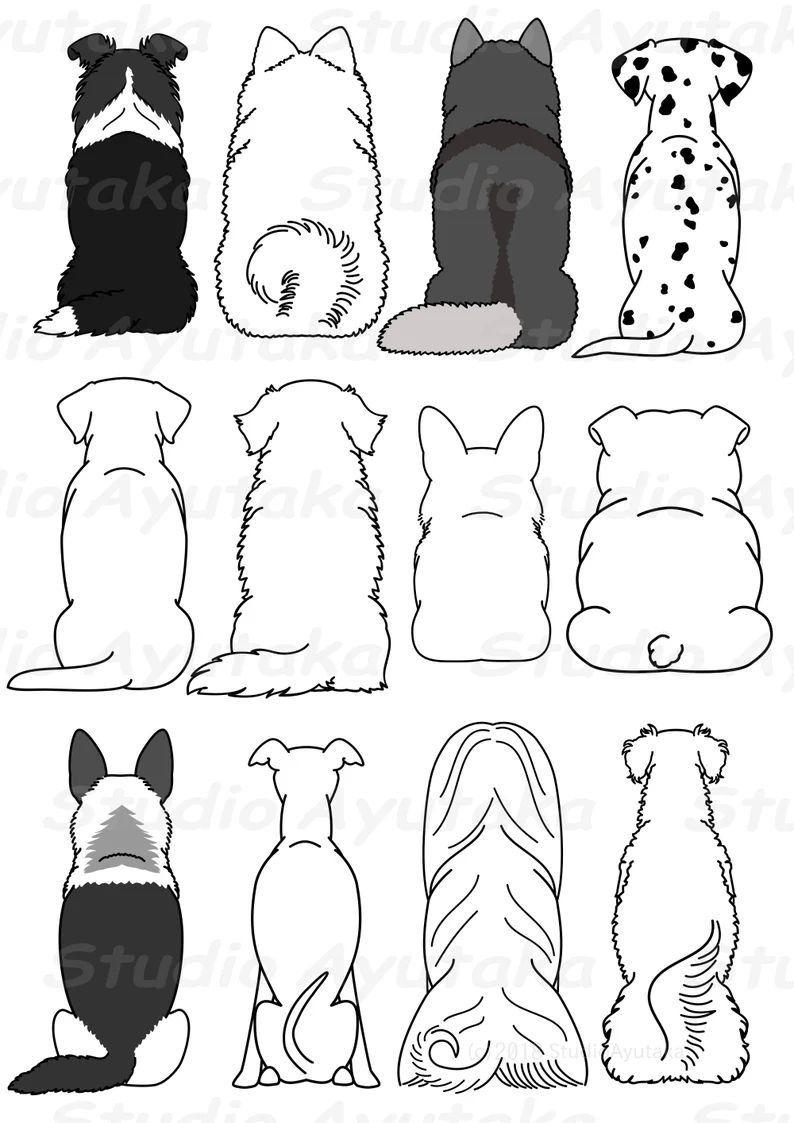adult_dog: (396, 721, 591, 1093), (8, 723, 196, 1097), (379, 14, 581, 359), (192, 378, 395, 700), (571, 33, 754, 362), (8, 376, 196, 694), (207, 24, 390, 344), (565, 402, 775, 677), (230, 736, 382, 1092), (602, 724, 750, 1088), (33, 26, 199, 341), (410, 403, 556, 664)
